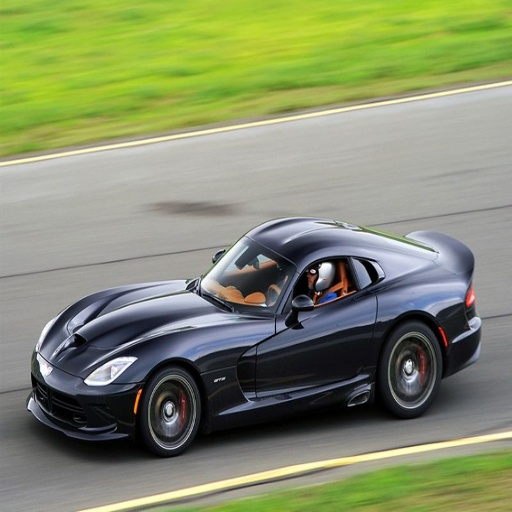back_left_door: (337, 249, 385, 376)
front_bumper: (32, 351, 139, 440)
front_glass: (213, 227, 298, 294)
front_left_door: (257, 252, 343, 396)
